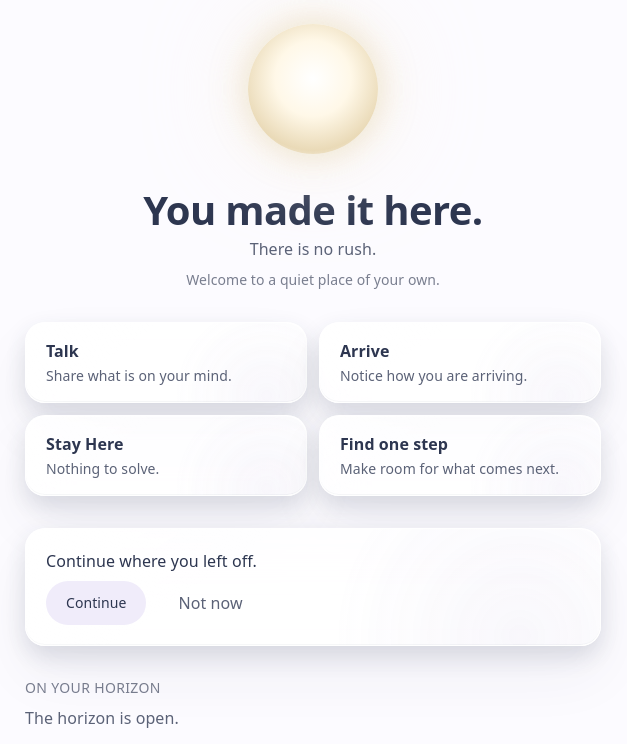
Test: HomeView › shows at most one dismissible continuation without private content
Expected: the text "Continue where you left off." is shown, x1=46 y1=550 x2=257 y2=572
Click the button "Not now" at x=211, y=603, box x1=154 y1=581 x2=267 y2=625
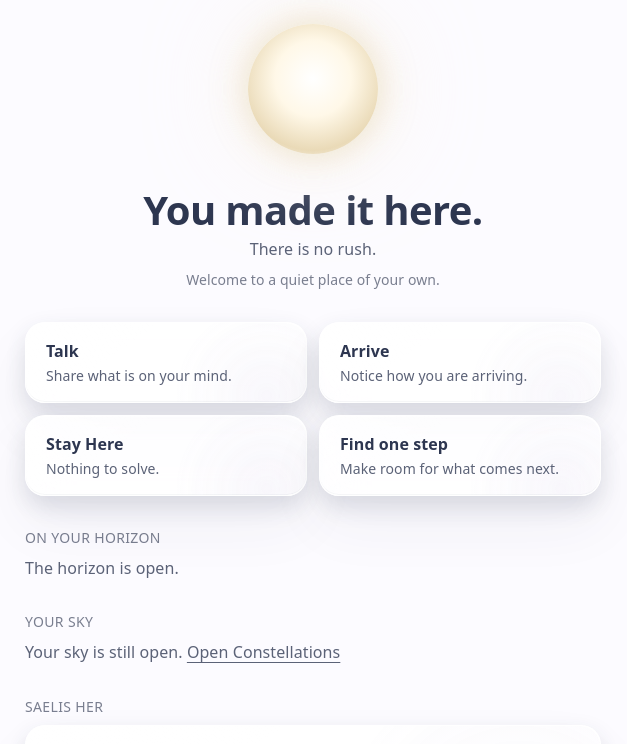
Expected: the text "Continue where you left off." is gone
